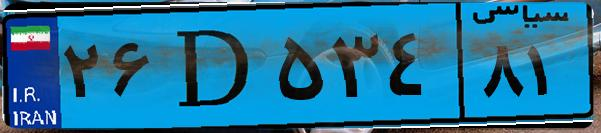1: (525, 38, 570, 115)
2: (57, 26, 110, 100)
3: (330, 28, 385, 110)
4: (385, 28, 445, 110)
5: (270, 28, 330, 110)
6: (110, 28, 158, 98)
8: (475, 38, 525, 113)
D: (158, 12, 270, 120)
